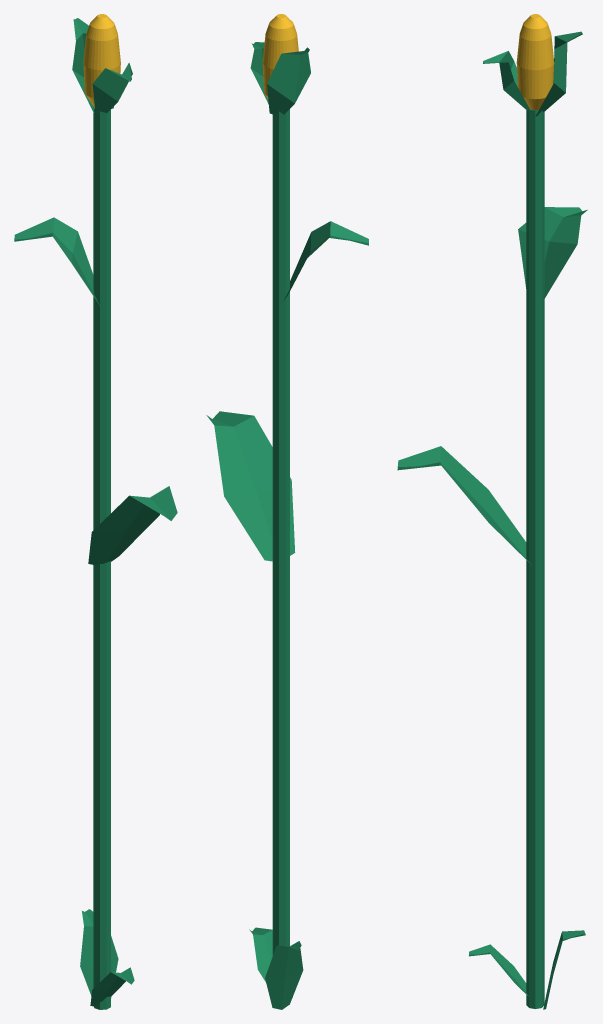
Rendered from corn_stalk.glb.
The picture shows the model from 3 angles, left to right: view 1: azimuth 30°, elevation 25°; view 2: azimuth 210°, elevation 25°; view 3: azimuth 270°, elevation 25°; orthographic projection.
Parts seen in each view (by area): view 1: Cylinder; view 2: Cylinder; view 3: Cylinder.
Part boxes in pixels (box(x1,y1,x2,y2)): Cylinder: box(14, 14, 177, 1009); Cylinder: box(206, 14, 368, 1009); Cylinder: box(397, 14, 587, 1009).
Size of the model in its own units: 0.2519 by 2.39 by 0.4175.
Materials: 1 (1 with a texture image).
